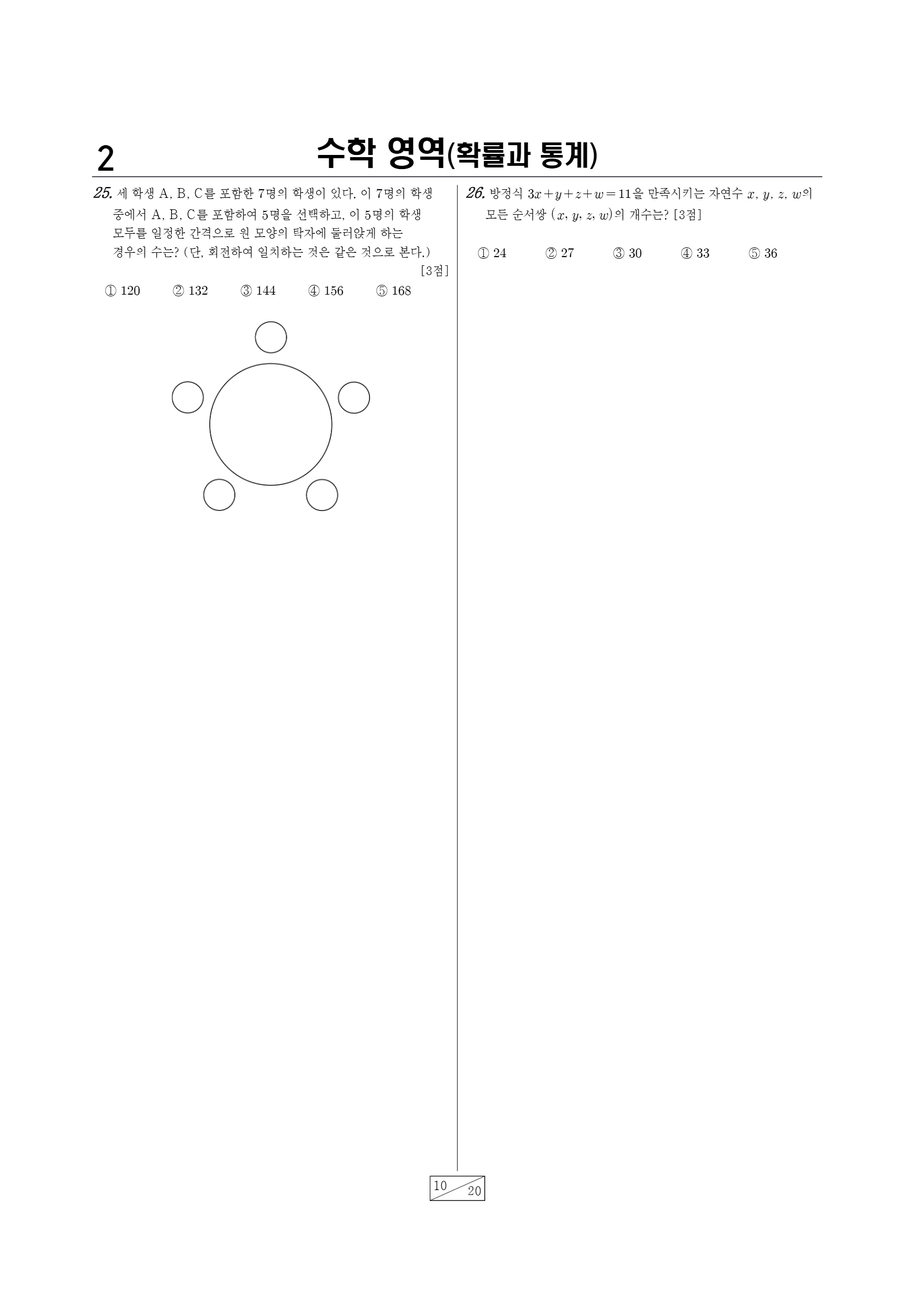opt_1: (103, 283, 117, 298), (478, 246, 490, 259)
opt_2: (172, 284, 184, 297), (546, 245, 556, 259)
opt_3: (240, 283, 252, 297), (613, 246, 624, 259)
opt_4: (680, 246, 693, 259), (308, 283, 319, 297)
opt_5: (748, 245, 760, 259), (376, 284, 387, 297)
